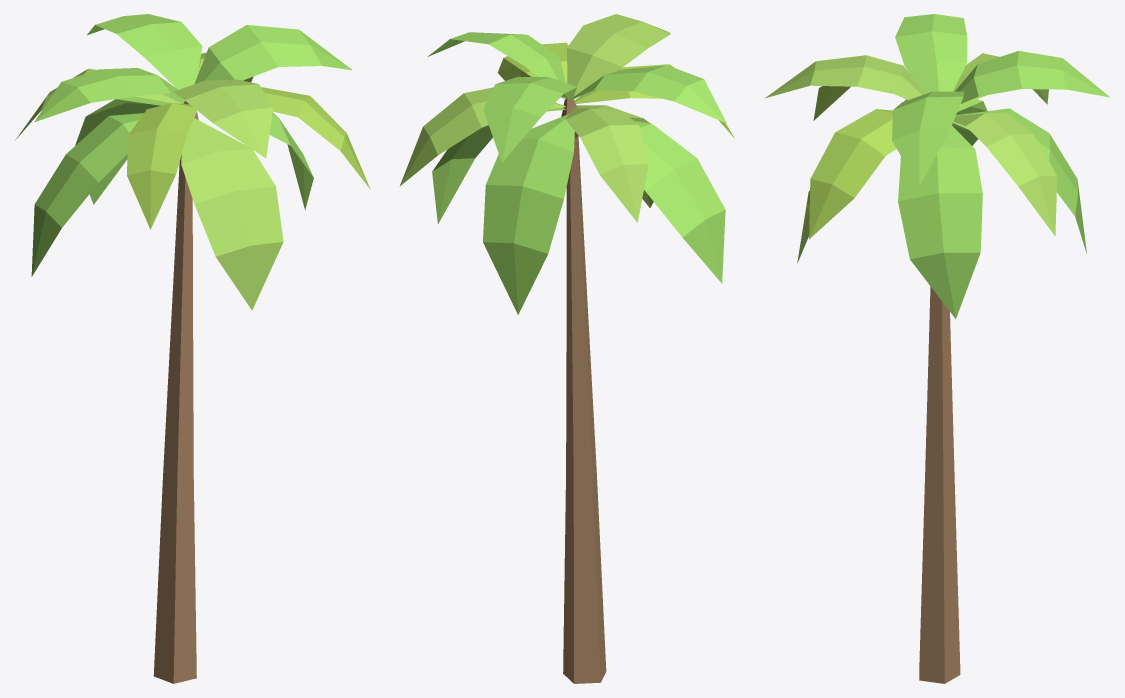
The model's file is Palm_Tree_OneSided_l_01.fbx.
3 renders of one model, left to right at view 1: azimuth 30°, elevation 25°; view 2: azimuth 150°, elevation 25°; view 3: azimuth 270°, elevation 25°, orthographic.
Parts seen in each view (by area): view 1: Palm_Tree_OneSided_l_01; view 2: Palm_Tree_OneSided_l_01; view 3: Palm_Tree_OneSided_l_01.
Boxes of the visible parts, bbox=[...] form: Palm_Tree_OneSided_l_01: bbox=[15, 14, 370, 683]; Palm_Tree_OneSided_l_01: bbox=[399, 14, 734, 683]; Palm_Tree_OneSided_l_01: bbox=[765, 14, 1109, 683].
Size of the model in its own units: 430 by 823 by 417.
